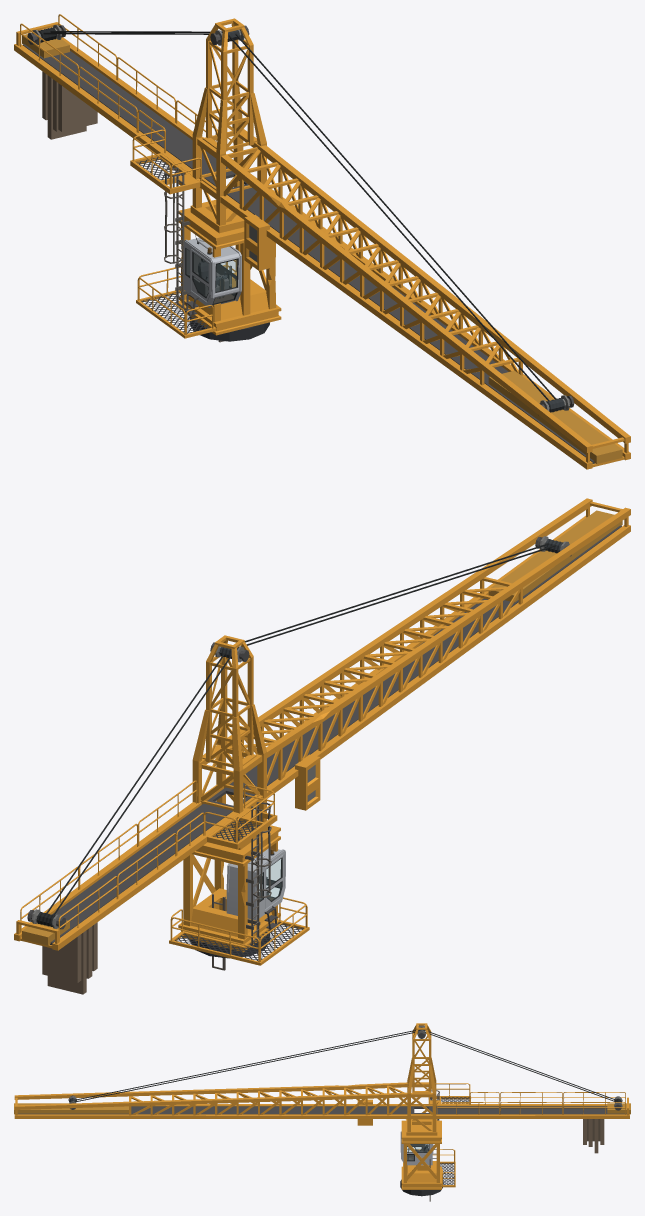
The model's file is SM_Bld_Crane_Top_01_808.obj.
3 views of the same model, one above another, from view 1: azimuth 30°, elevation 25°; view 2: azimuth 150°, elevation 25°; view 3: azimuth 270°, elevation 25° (orthographic). The views are drawn at different scales.
Parts seen in each view (by area): view 1: SM_Bld_Crane_Top_01_0, SM_Bld_Crane_Top_01_1, SM_Bld_Crane_Top_01_2; view 2: SM_Bld_Crane_Top_01_0, SM_Bld_Crane_Top_01_1; view 3: SM_Bld_Crane_Top_01_0, SM_Bld_Crane_Top_01_1.
Boxes of the visible parts, x1=… form: SM_Bld_Crane_Top_01_0: x1=14, y1=14, x2=630, y2=469; SM_Bld_Crane_Top_01_1: x1=136, y1=157, x2=210, y2=333; SM_Bld_Crane_Top_01_2: x1=187, y1=250, x2=236, y2=302; SM_Bld_Crane_Top_01_0: x1=14, y1=498, x2=630, y2=994; SM_Bld_Crane_Top_01_1: x1=175, y1=819, x2=303, y2=960; SM_Bld_Crane_Top_01_0: x1=14, y1=1023, x2=630, y2=1201; SM_Bld_Crane_Top_01_1: x1=440, y1=1097, x2=469, y2=1184.
Bounding box in the file's own units: 4.41 × 13.99 × 45.18.
3 materials, 2 textured.
